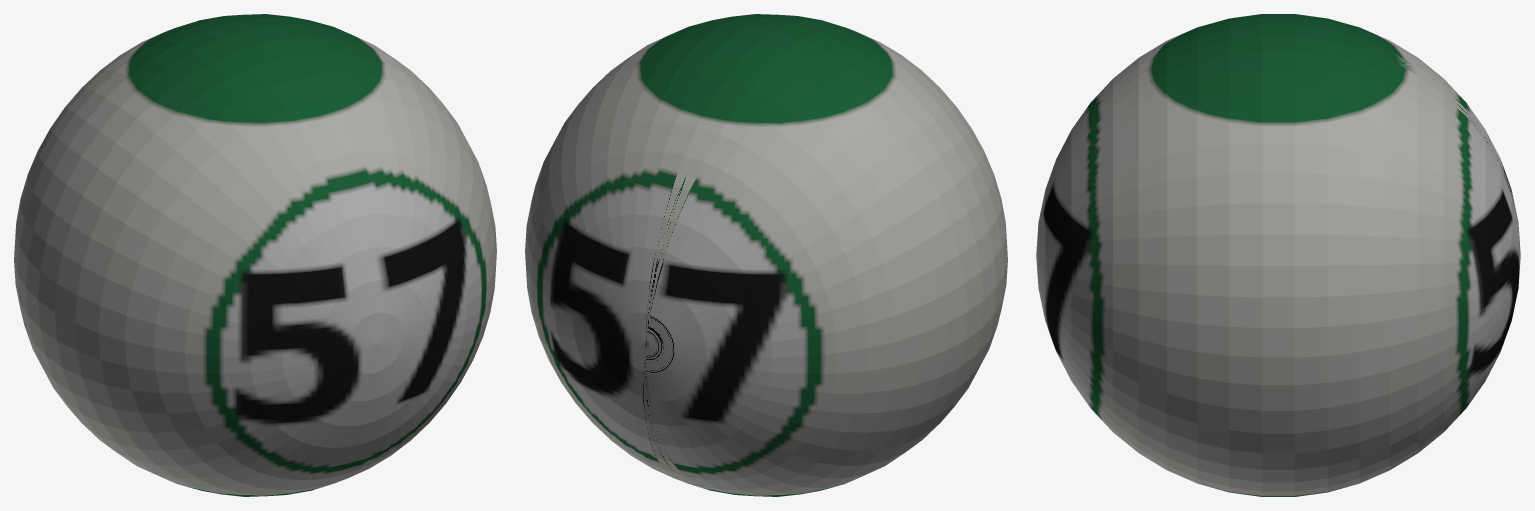
The picture shows the model from 3 angles, left to right: view 1: azimuth 30°, elevation 25°; view 2: azimuth 150°, elevation 25°; view 3: azimuth 270°, elevation 25°; orthographic projection.
Visible parts, largest first — view 1: geometry_0; view 2: geometry_0; view 3: geometry_0.
Part boxes in pixels (<box>): geometry_0: <box>14,14,496,496</box>; geometry_0: <box>525,14,1007,496</box>; geometry_0: <box>1036,14,1520,496</box>.
Bounding box in the file's own units: 0.0599 × 0.0599 × 0.06.
1 material, 1 textured.
